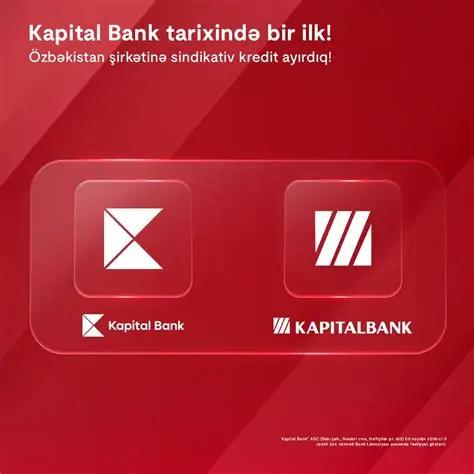Kapital Bank: (102, 206, 165, 270), (80, 312, 106, 338)
